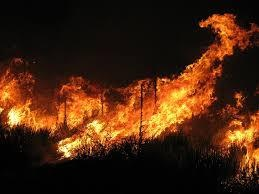fire: (22, 23, 254, 154)
